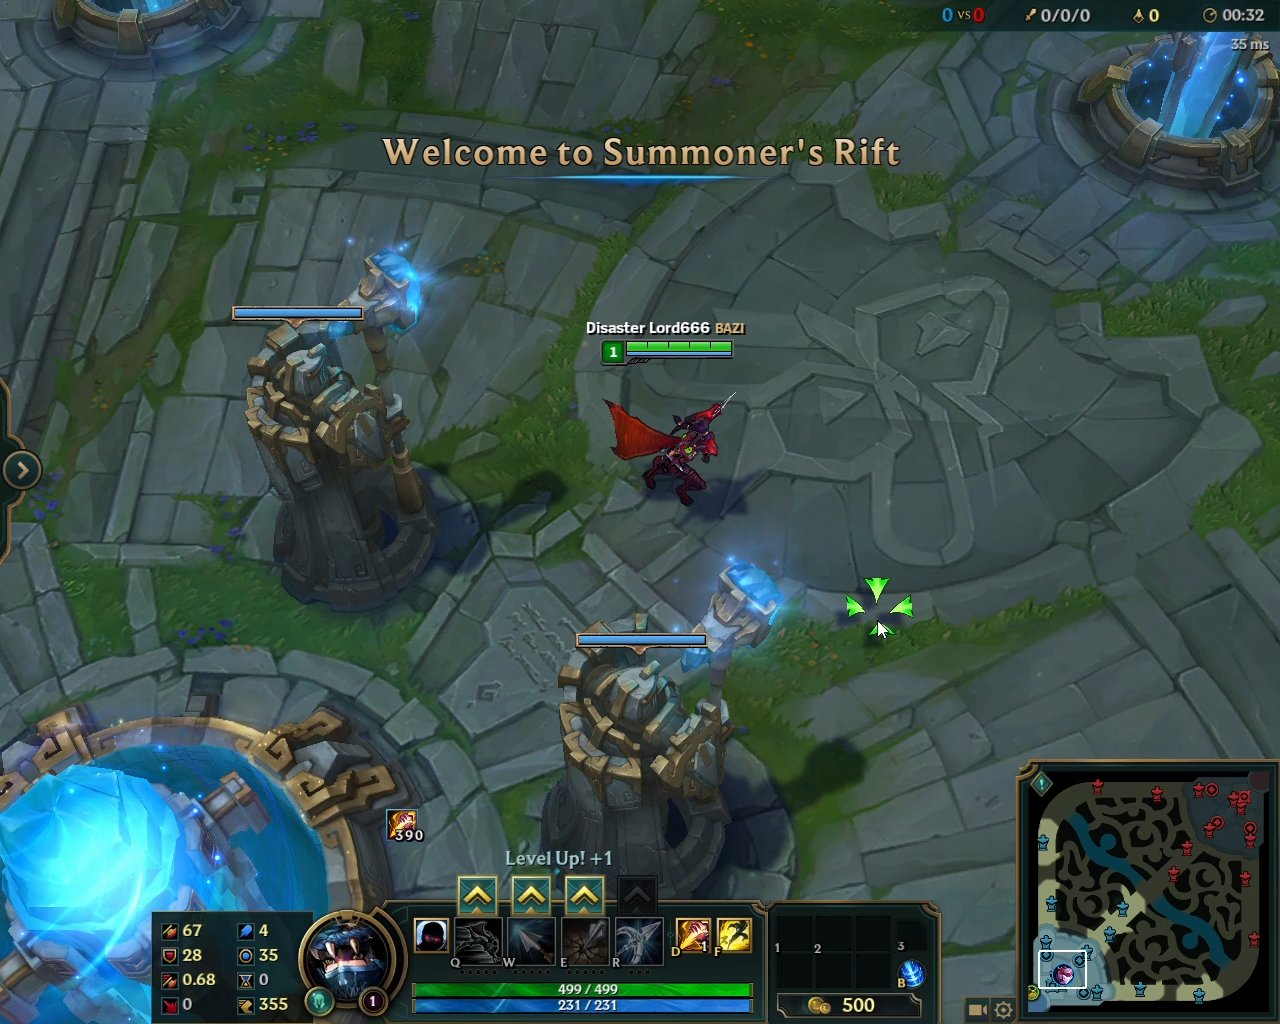Vayne: (596, 385, 745, 514)
